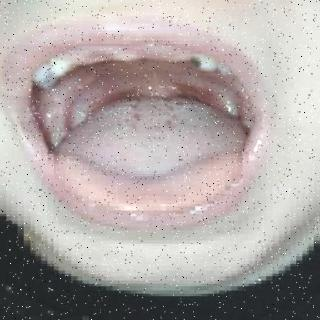cavities: (184, 48, 211, 74)
